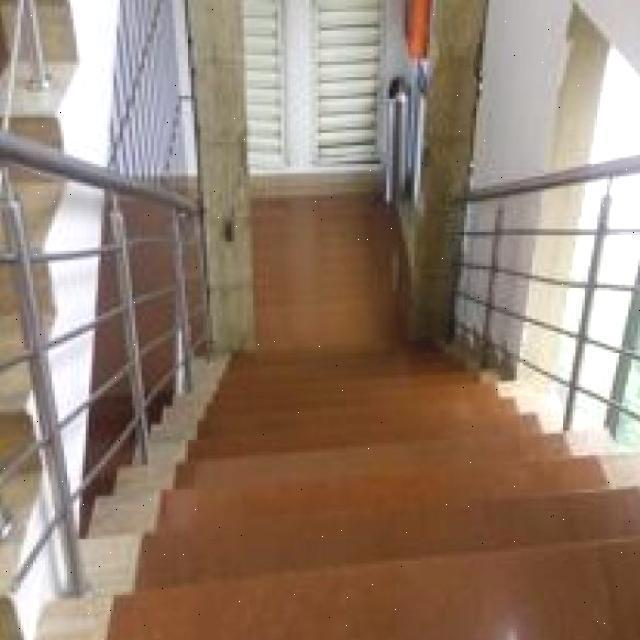stair: (96, 433, 640, 632)
